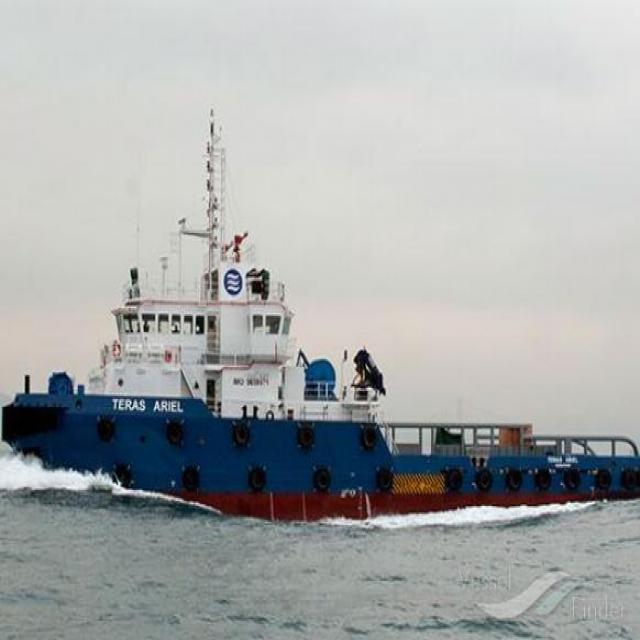OCR: (113, 391, 188, 420)
